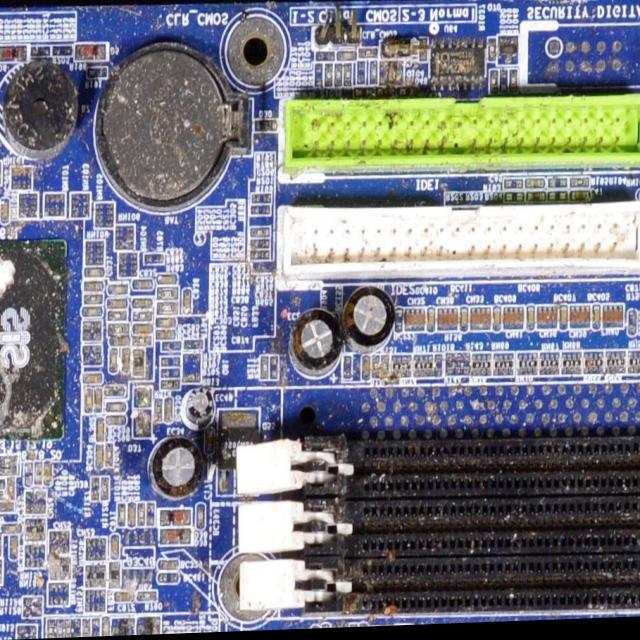IC: (0, 242, 71, 438), (430, 38, 486, 96)
capacitor: (154, 316, 178, 329), (520, 182, 546, 194), (95, 441, 106, 469), (181, 289, 192, 316), (83, 388, 93, 417), (81, 280, 104, 291), (337, 54, 358, 66), (107, 297, 126, 310), (154, 330, 174, 342), (84, 374, 102, 387), (115, 592, 134, 604), (127, 503, 135, 530), (97, 420, 105, 447), (166, 395, 173, 424), (108, 287, 128, 297), (111, 336, 129, 347), (571, 193, 589, 204), (157, 274, 176, 284), (109, 402, 123, 415), (132, 326, 152, 334), (135, 282, 152, 291)
resistor: (503, 193, 527, 206), (568, 179, 592, 192), (15, 625, 37, 639), (369, 62, 380, 89), (334, 63, 344, 91), (488, 72, 499, 97), (146, 502, 156, 529), (137, 591, 159, 603), (117, 502, 126, 529), (504, 182, 525, 193), (509, 74, 518, 99), (136, 312, 152, 326), (137, 502, 145, 528), (488, 43, 497, 66), (526, 196, 546, 206), (345, 66, 353, 91), (84, 267, 102, 278), (326, 66, 334, 90), (83, 295, 102, 305), (109, 311, 127, 321), (158, 290, 178, 299), (548, 196, 568, 205), (159, 305, 178, 314), (14, 638, 37, 640), (349, 627, 356, 630)
transistor: (499, 40, 517, 71)
